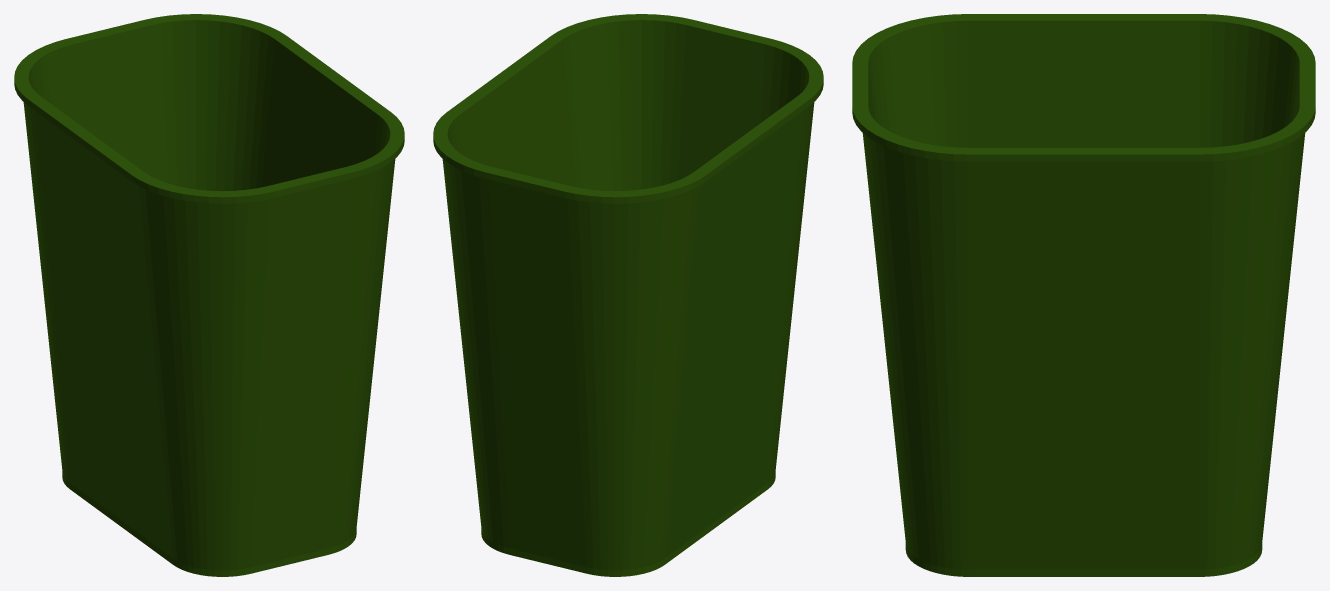
3 views of the same model, side by side, from view 1: azimuth 30°, elevation 25°; view 2: azimuth 150°, elevation 25°; view 3: azimuth 270°, elevation 25° (orthographic). The views are drawn at different scales.
Visible parts, largest first — view 1: mesh1.001_mesh1-geometry; view 2: mesh1.001_mesh1-geometry; view 3: mesh1.001_mesh1-geometry.
Boxes of the visible parts, left/top/right/bottom form: mesh1.001_mesh1-geometry: left=14, top=14, right=404, bottom=576; mesh1.001_mesh1-geometry: left=433, top=14, right=823, bottom=576; mesh1.001_mesh1-geometry: left=852, top=14, right=1315, bottom=576.
Bounding box in the file's own units: 0.442 × 0.6524 × 0.6156.
